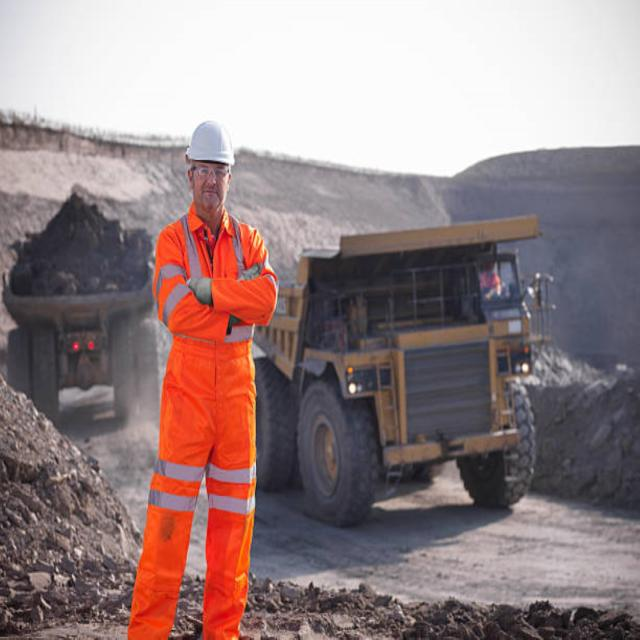dump_truck: (262, 197, 557, 530), (6, 171, 166, 434)
